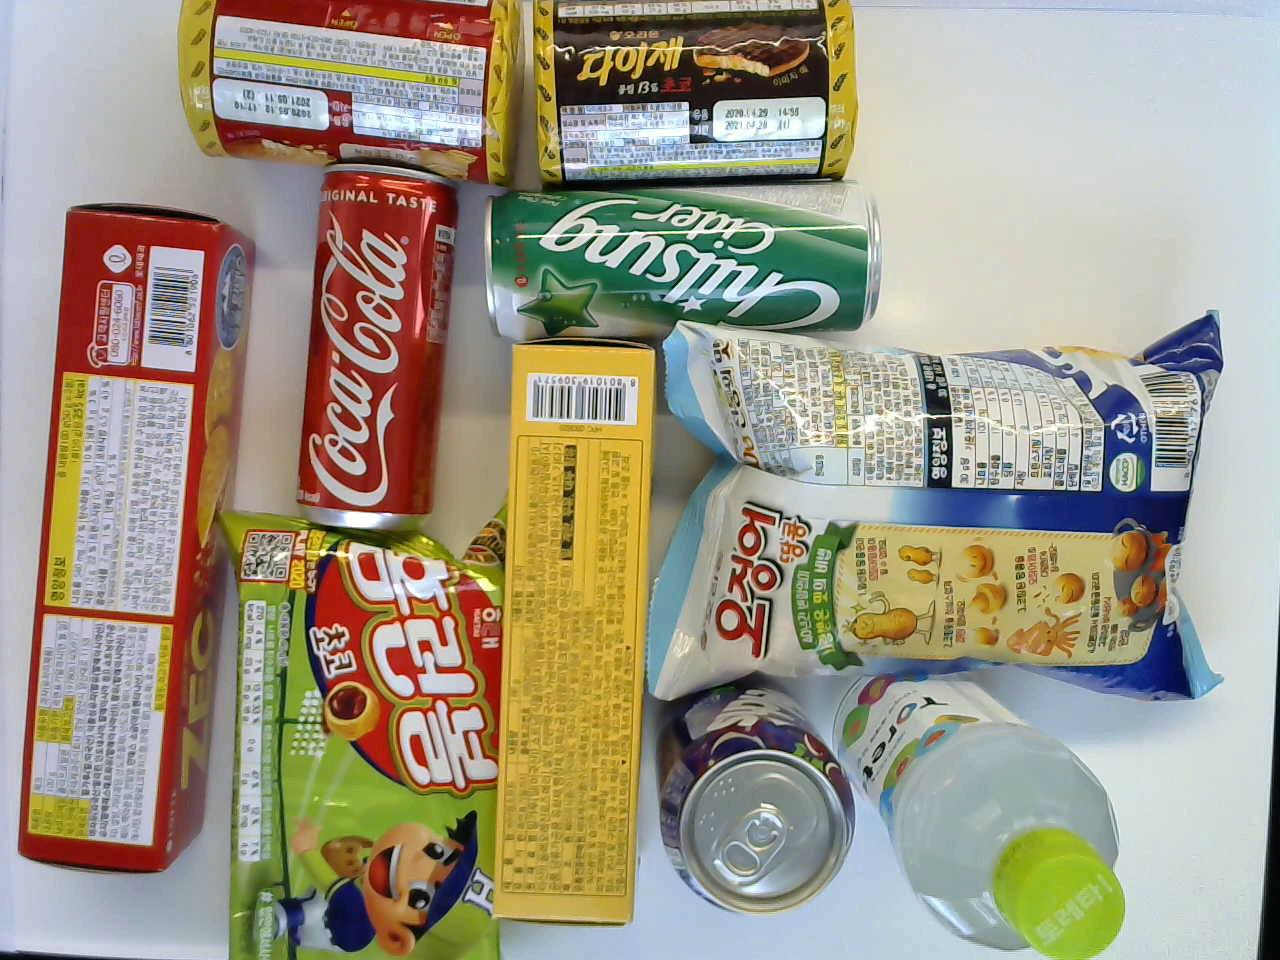buttering: (508, 342, 643, 913)
cidar: (482, 191, 876, 330)
coke: (315, 169, 437, 532)
diget_choco: (526, 0, 849, 171)
diget_ori: (196, 0, 505, 156)
homerunball: (231, 520, 499, 959)
squid_peanut: (686, 342, 1177, 672)
toreta: (827, 661, 1118, 952)
welchs: (654, 682, 861, 914)
zec: (48, 204, 207, 861)
